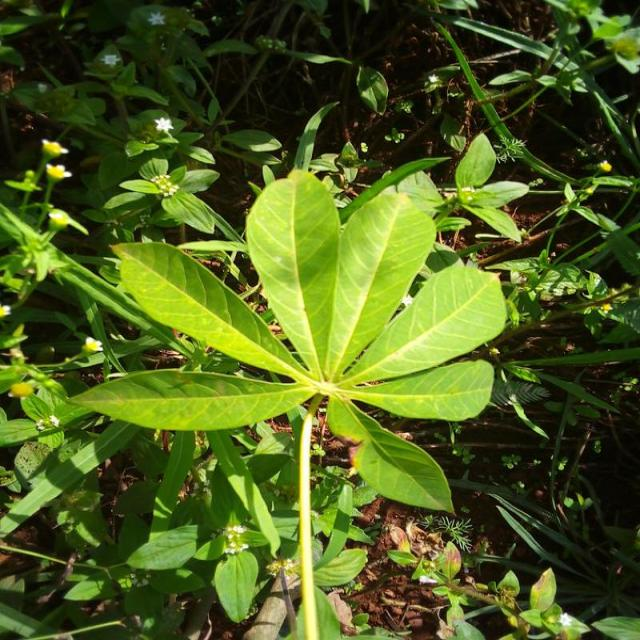cassava leaf: (66, 161, 507, 636), (244, 167, 341, 382)
